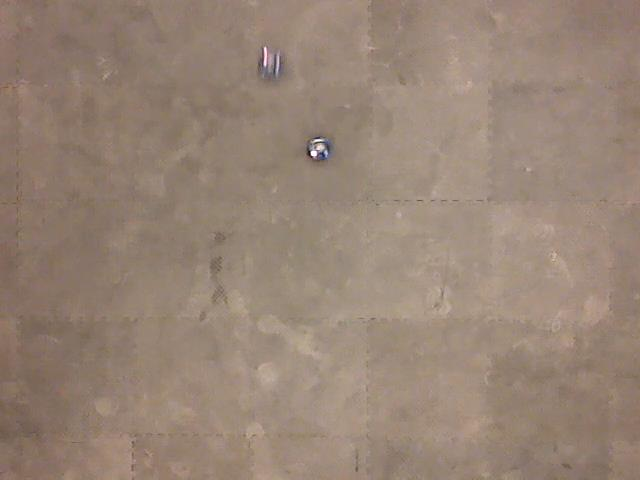Agent: (256, 43, 285, 81), (305, 134, 334, 163)
